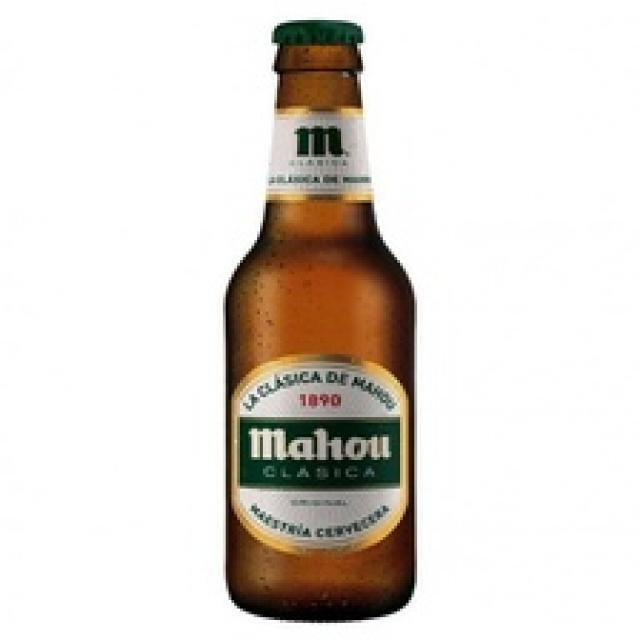garbage: (177, 37, 469, 628)
